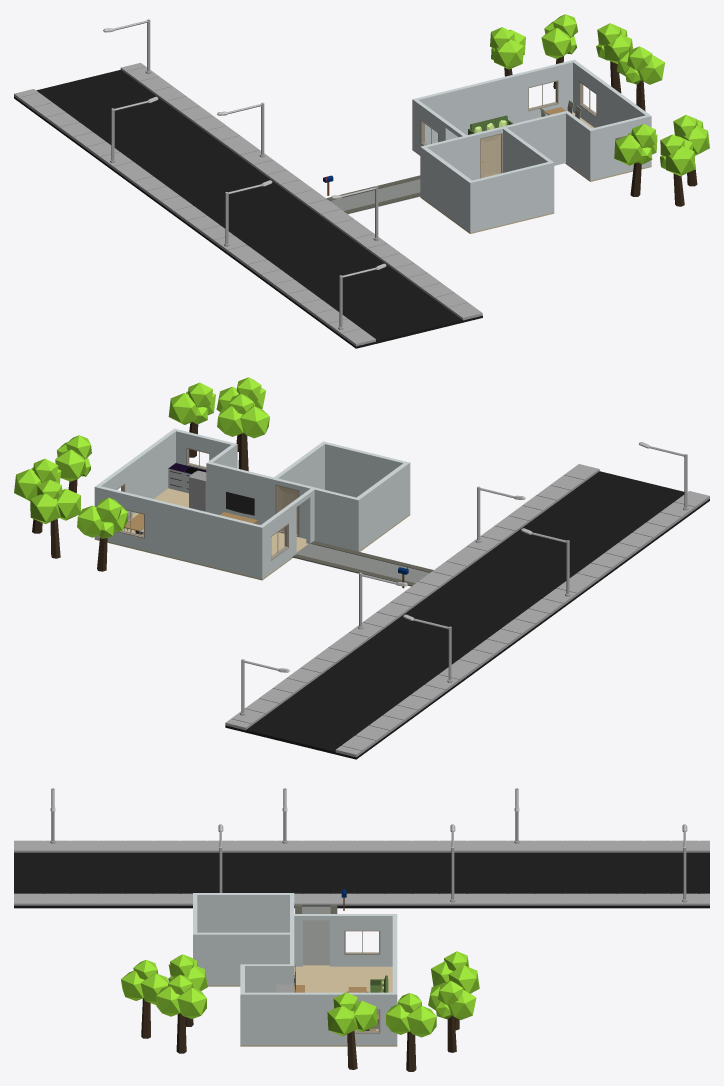
The model's file is house.fbx.
3 views of the same model, one above another, from view 1: azimuth 30°, elevation 25°; view 2: azimuth 150°, elevation 25°; view 3: azimuth 270°, elevation 25° (orthographic). The views are drawn at different scales.
Visible parts, largest first — view 1: walls, street.002, street, street.001, walkway, tree.004, tree.002, tree.005, tree.001, tree, tree.006, tree.003 (+1 smaller); view 2: walls, street, street.001, street.002, walkway, tree.001, tree.004, tree.006, tree.003, tree.002, floor, tree (+3 smaller); view 3: walls, street, street.002, street.001, floor, tree.003, tree, tree.002, tree.005, tree.001, walkway, tree.006 (+1 smaller).
Part boxes in pixels (x1=…): walls: x1=412, y1=59, x2=651, y2=232; street.002: x1=242, y1=186, x2=482, y2=348; street: x1=14, y1=19, x2=254, y2=181; street.001: x1=128, y1=102, x2=368, y2=264; walkway: x1=326, y1=175, x2=420, y2=213; tree.004: x1=614, y1=124, x2=657, y2=196; tree.002: x1=617, y1=46, x2=664, y2=111; tree.005: x1=660, y1=134, x2=695, y2=206; tree.001: x1=541, y1=14, x2=577, y2=88; tree: x1=596, y1=23, x2=632, y2=93; tree.006: x1=490, y1=27, x2=525, y2=76; tree.003: x1=673, y1=115, x2=709, y2=186; walls: x1=94, y1=428, x2=410, y2=579; street: x1=225, y1=614, x2=474, y2=759; street.001: x1=343, y1=528, x2=591, y2=672; street.002: x1=461, y1=442, x2=709, y2=586; walkway: x1=292, y1=541, x2=433, y2=586; tree.001: x1=30, y1=479, x2=80, y2=558; tree.004: x1=217, y1=394, x2=269, y2=471; tree.006: x1=77, y1=497, x2=127, y2=571; tree.003: x1=168, y1=382, x2=215, y2=457; tree.002: x1=55, y1=435, x2=91, y2=492; floor: x1=94, y1=488, x2=410, y2=580; tree: x1=14, y1=458, x2=61, y2=533; walls: x1=193, y1=893, x2=397, y2=1045; street: x1=478, y1=788, x2=709, y2=908; street.002: x1=14, y1=788, x2=245, y2=908; street.001: x1=246, y1=788, x2=477, y2=908; floor: x1=207, y1=965, x2=397, y2=1046; tree.003: x1=156, y1=974, x2=206, y2=1053; tree: x1=386, y1=993, x2=436, y2=1071; tree.002: x1=327, y1=992, x2=377, y2=1069; tree.005: x1=121, y1=960, x2=168, y2=1038; tree.001: x1=428, y1=980, x2=476, y2=1052; walkway: x1=295, y1=905, x2=337, y2=965; tree.006: x1=431, y1=951, x2=479, y2=1030.
Size of what is drawn, in the model's own units: 22847 by 3436 by 28741.
